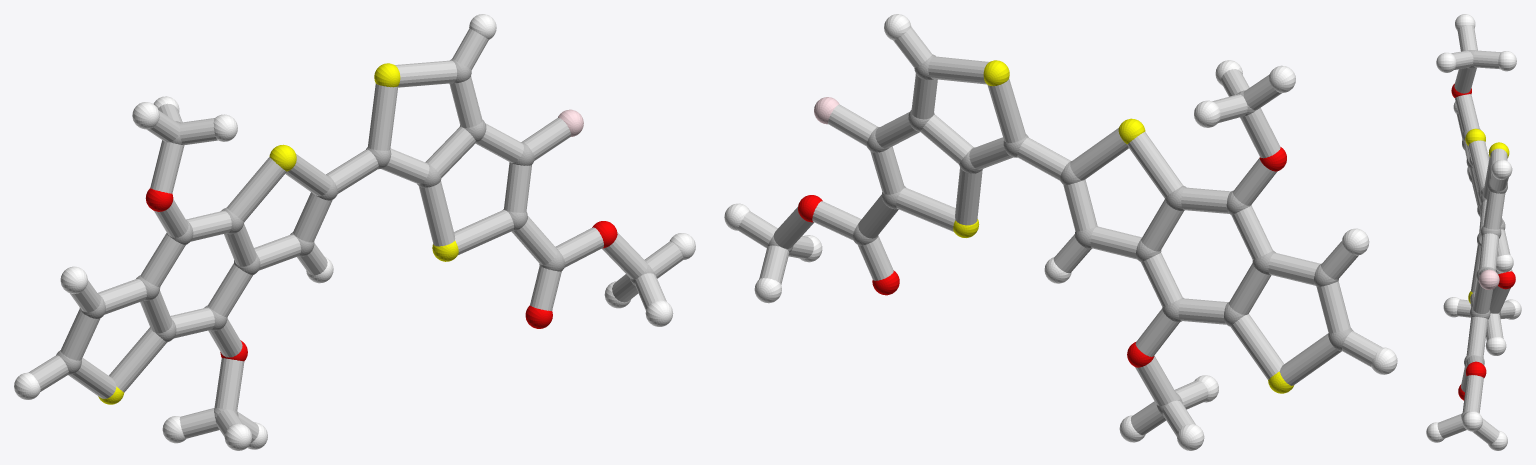
The model's file is Dimethoxy_Benzodithiophene_Phi_0_Theta_160_Methylcarbonyl_3_Fluoro_Thienothiophene.glb.
The picture shows the model from 3 angles, left to right: view 1: azimuth 30°, elevation 25°; view 2: azimuth 150°, elevation 25°; view 3: azimuth 270°, elevation 25°; orthographic projection. The views are drawn at different scales.
Visible parts, largest first — view 1: grp15205, grp8689, grp1, grp7241, grp13395; view 2: grp15205, grp8689, grp1, grp7241, grp13395; view 3: grp15205, grp8689, grp1, grp13395, grp7241, grp14843.
Part boxes in pixels (x1=…): grp15205: x1=28, y1=29, x2=683, y2=442; grp8689: x1=14, y1=14, x2=695, y2=450; grp1: x1=56, y1=59, x2=655, y2=419; grp7241: x1=98, y1=63, x2=458, y2=404; grp13395: x1=145, y1=188, x2=617, y2=361; grp15205: x1=738, y1=27, x2=1382, y2=436; grp8689: x1=724, y1=14, x2=1397, y2=450; grp1: x1=768, y1=54, x2=1353, y2=414; grp7241: x1=953, y1=60, x2=1293, y2=393; grp13395: x1=798, y1=147, x2=1286, y2=367; grp15205: x1=1437, y1=25, x2=1515, y2=444; grp8689: x1=1426, y1=14, x2=1521, y2=450; grp1: x1=1461, y1=50, x2=1507, y2=420; grp13395: x1=1451, y1=83, x2=1515, y2=400; grp7241: x1=1465, y1=128, x2=1509, y2=303; grp14843: x1=1479, y1=269, x2=1499, y2=289.
Bounding box in the file's own units: 16.97 × 9.42 × 2.78.
